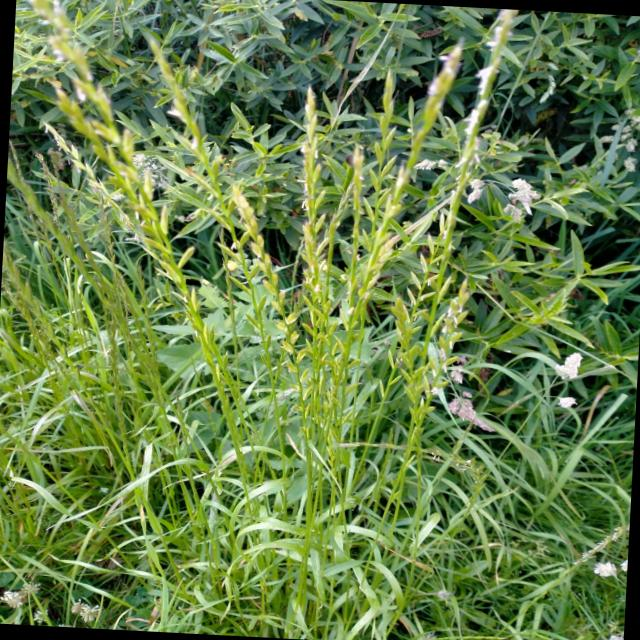Lolium: (0, 0, 520, 640), (19, 0, 189, 280), (333, 36, 467, 374), (136, 30, 252, 232), (215, 184, 311, 349), (285, 83, 337, 364)
